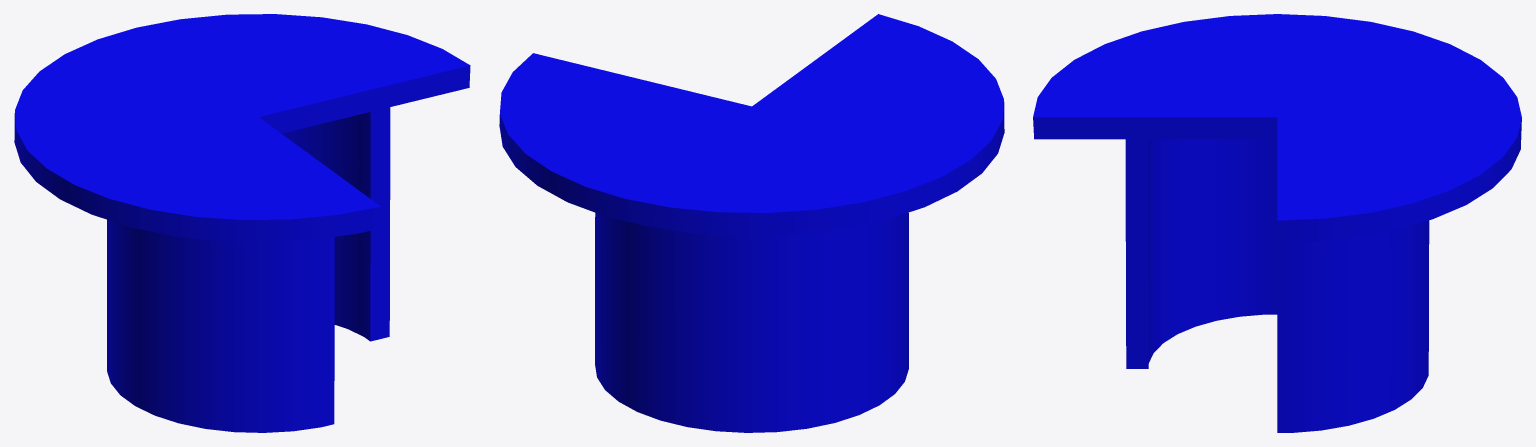
The model's file is Isolant bleu.glb.
3 views of the same model, side by side, from view 1: azimuth 30°, elevation 25°; view 2: azimuth 150°, elevation 25°; view 3: azimuth 270°, elevation 25° (orthographic). The views are drawn at different scales.
Size of the model in its own units: 64.86 by 36.84 by 64.86.
